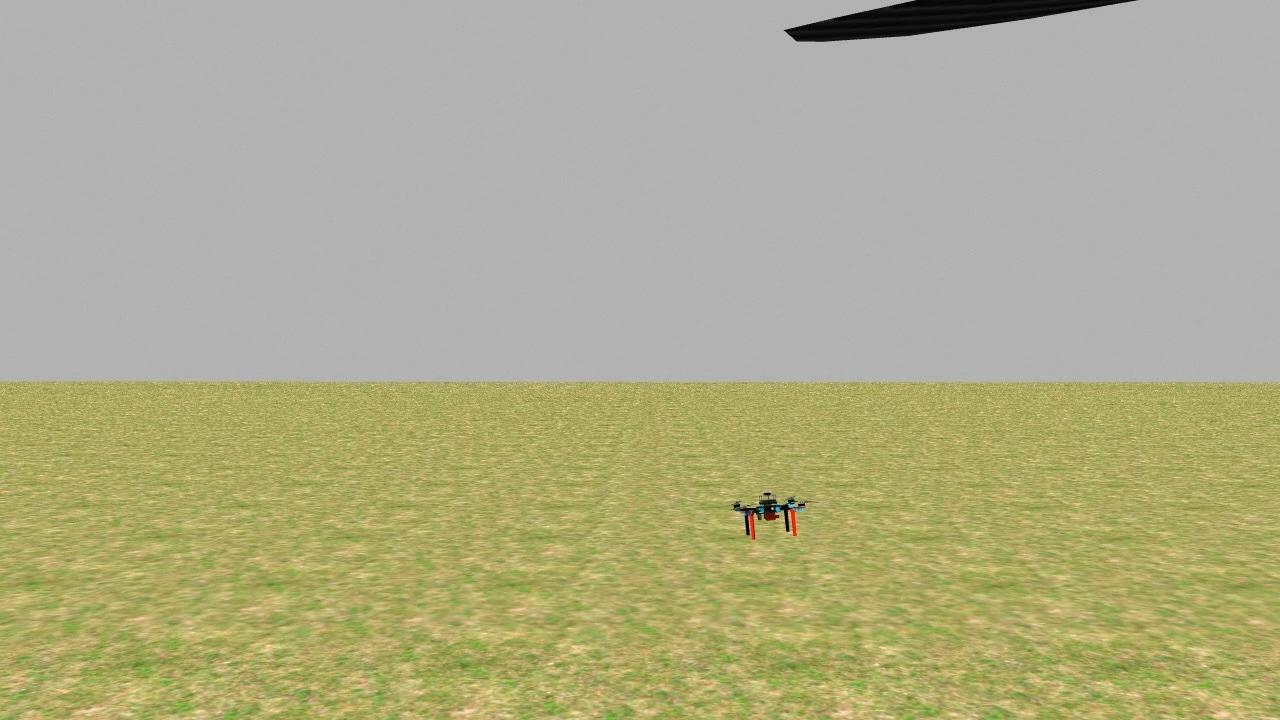UAV: (713, 476, 829, 551)
